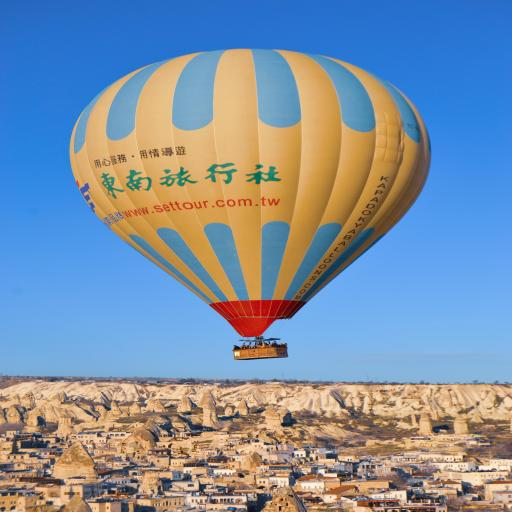hot air ballon: (69, 50, 434, 361)
